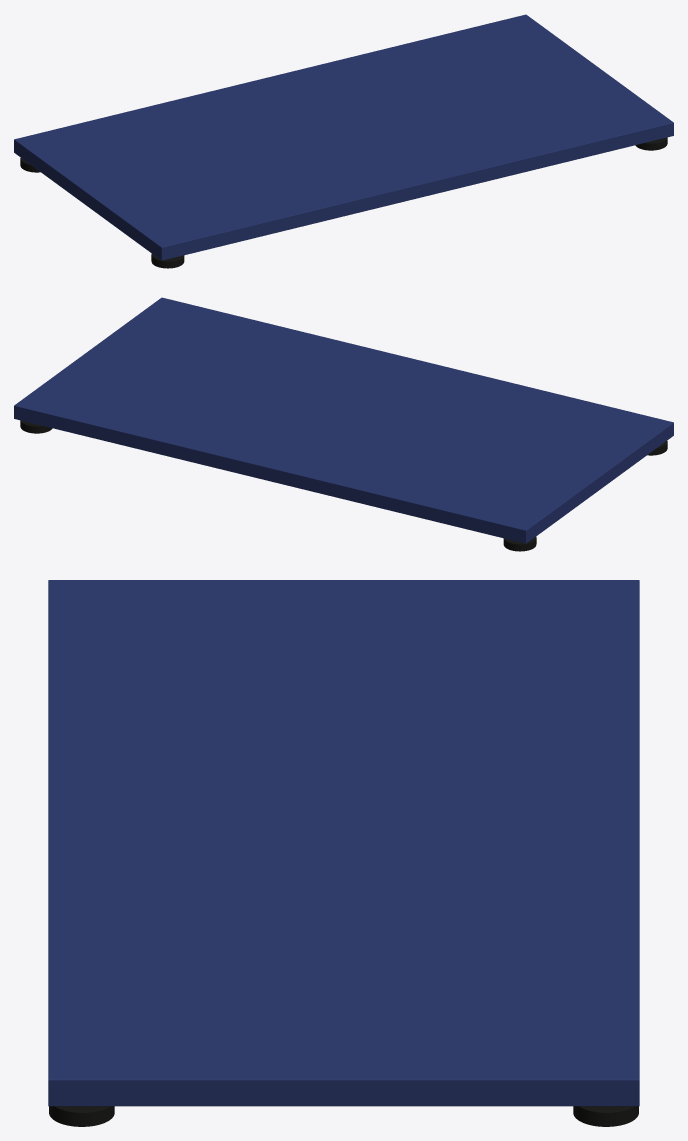
Rendered from PLT_2X1_AF.glb.
3 views of the same model, one above another, from view 1: azimuth 30°, elevation 25°; view 2: azimuth 150°, elevation 25°; view 3: azimuth 270°, elevation 25° (orthographic). The views are drawn at different scales.
Size of the model in its own units: 720 by 32 by 360.
